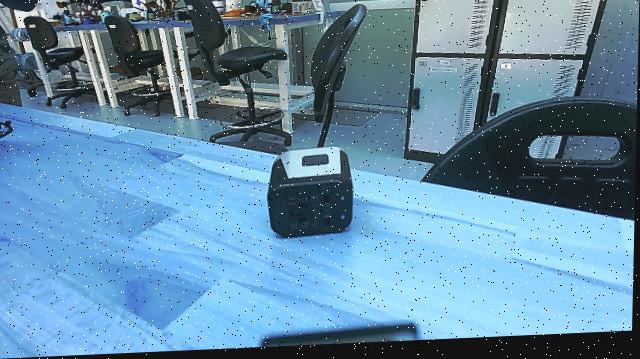adapter: (261, 147, 362, 247)
